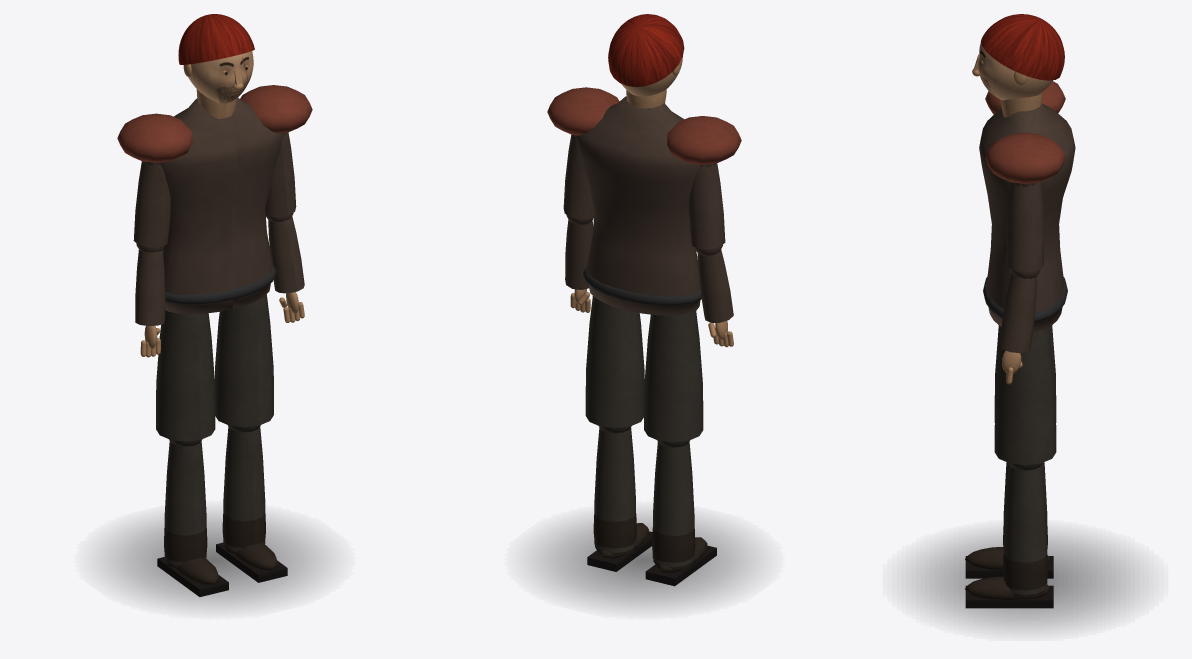
File: npc_renn.glb
The picture shows the model from 3 angles, left to right: view 1: azimuth 30°, elevation 25°; view 2: azimuth 150°, elevation 25°; view 3: azimuth 270°, elevation 25°; orthographic projection. The views are drawn at different scales.
Parts seen in each view (by area): view 1: chest, object 11, legL, legR, shinL, shinR, head, foreL, foreR, armL, armR; view 2: chest, object 11, legL, legR, shinL, shinR, head, armL, foreL, foreR, armR; view 3: chest, object 11, shinR, legR, head, armR, foreR, shinL, legL.
Boxes of the visible parts, x1,y1,x2,y2 form: chest: (117, 85, 312, 314); object 11: (102, 512, 327, 607); legL: (156, 310, 215, 441); legR: (214, 294, 273, 427); shinL: (157, 439, 228, 596); shinR: (216, 425, 287, 582); head: (178, 14, 254, 103); foreL: (135, 243, 165, 357); foreR: (265, 213, 304, 322); armL: (133, 161, 170, 247); armR: (265, 132, 296, 217); chest: (547, 87, 741, 315); object 11: (532, 513, 756, 607); legL: (644, 311, 703, 442); legR: (585, 296, 644, 428); shinL: (645, 440, 716, 586); shinR: (587, 426, 652, 571); head: (608, 14, 684, 96); armL: (688, 163, 725, 248); foreL: (694, 244, 733, 347); foreR: (565, 214, 593, 312); armR: (563, 134, 594, 219); chest: (979, 81, 1075, 332); object 11: (911, 532, 1139, 628); shinR: (965, 463, 1053, 608); legR: (994, 327, 1056, 465); head: (972, 14, 1064, 100); armR: (1006, 182, 1044, 271); foreR: (999, 269, 1040, 384); shinL: (965, 462, 1053, 578); legL: (994, 325, 1056, 422).
Size of the model in its own units: 0.868 by 1.79 by 0.868.
Materials: 6 (5 with a texture image).
